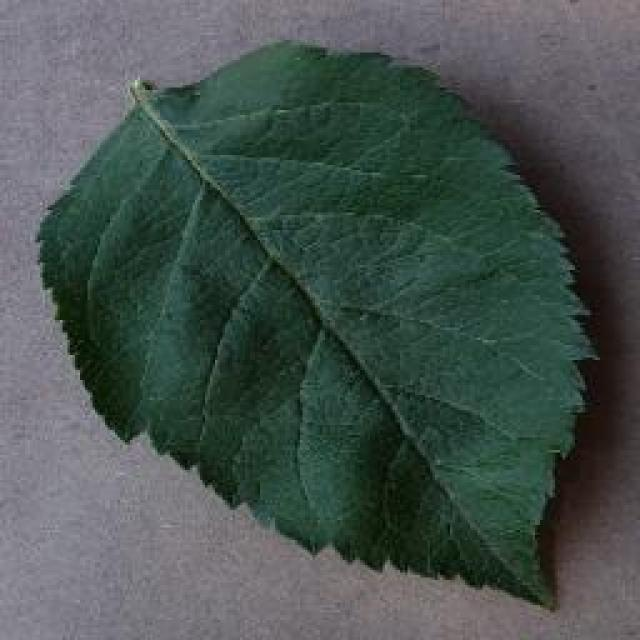apple healthy: (32, 35, 600, 610)
